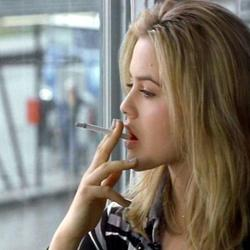smoking: (73, 120, 141, 150)
